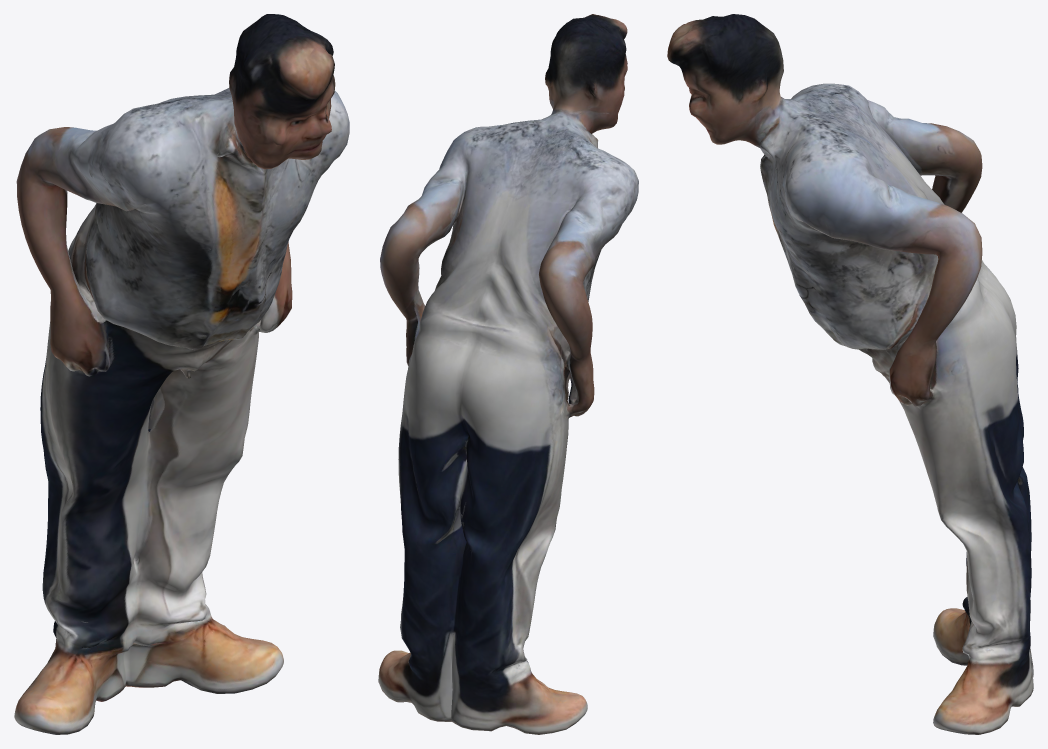
Rendered from bernard.glb.
The picture shows the model from 3 angles, left to right: view 1: azimuth 30°, elevation 25°; view 2: azimuth 150°, elevation 25°; view 3: azimuth 270°, elevation 25°; orthographic projection. The views are drawn at different scales.
Parts seen in each view (by area): view 1: Mesh0; view 2: Mesh0; view 3: Mesh0.
Part boxes in pixels (bbox=[...]): Mesh0: bbox=[14, 14, 349, 734]; Mesh0: bbox=[378, 14, 638, 734]; Mesh0: bbox=[667, 14, 1033, 734].
Size of the model in its own units: 0.6977 by 1.99 by 0.9803.
1 material, 1 textured.
